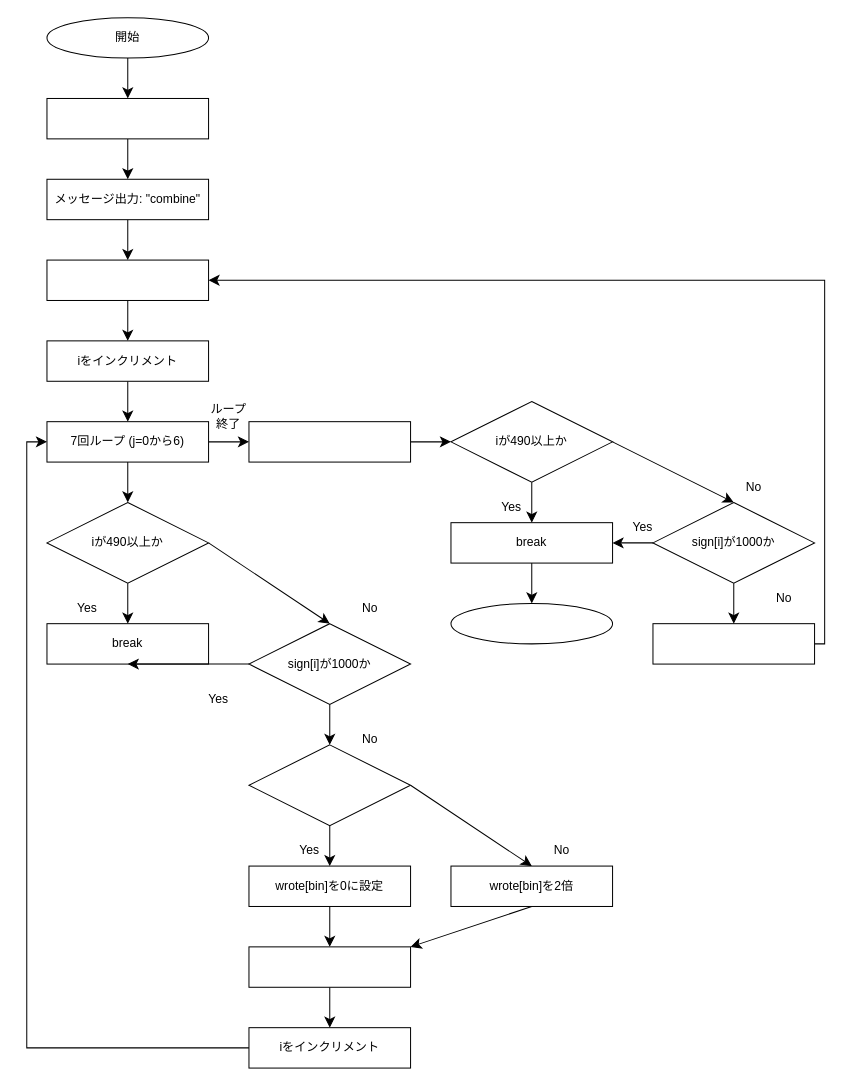
The diagram is 852 pixels wide and 1086 high, and some of its shapes have lost their labels. The box of each missing label's shape, as (x1, y1, x2, y2) in pixels:
bin`をインクリメント: (652, 623, 815, 664)
binを0に設定: (46, 97, 209, 139)
iを0から489までループ: (46, 259, 209, 300)
wrote[bin]`をシリアル出力: (248, 421, 411, 462)
wrote[bin]が1000か: (248, 744, 411, 826)
wrote[bin]にsign[i]を加算: (248, 946, 411, 987)
終了: (450, 602, 613, 644)
